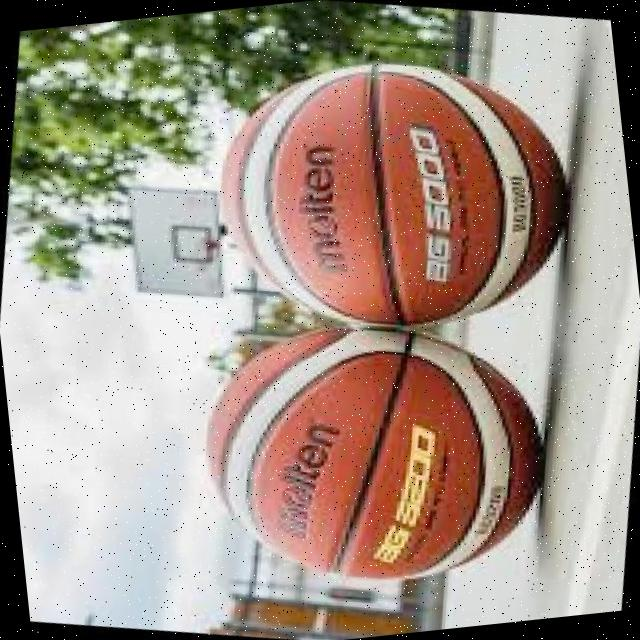ball: (185, 17, 592, 372), (170, 283, 566, 622)
